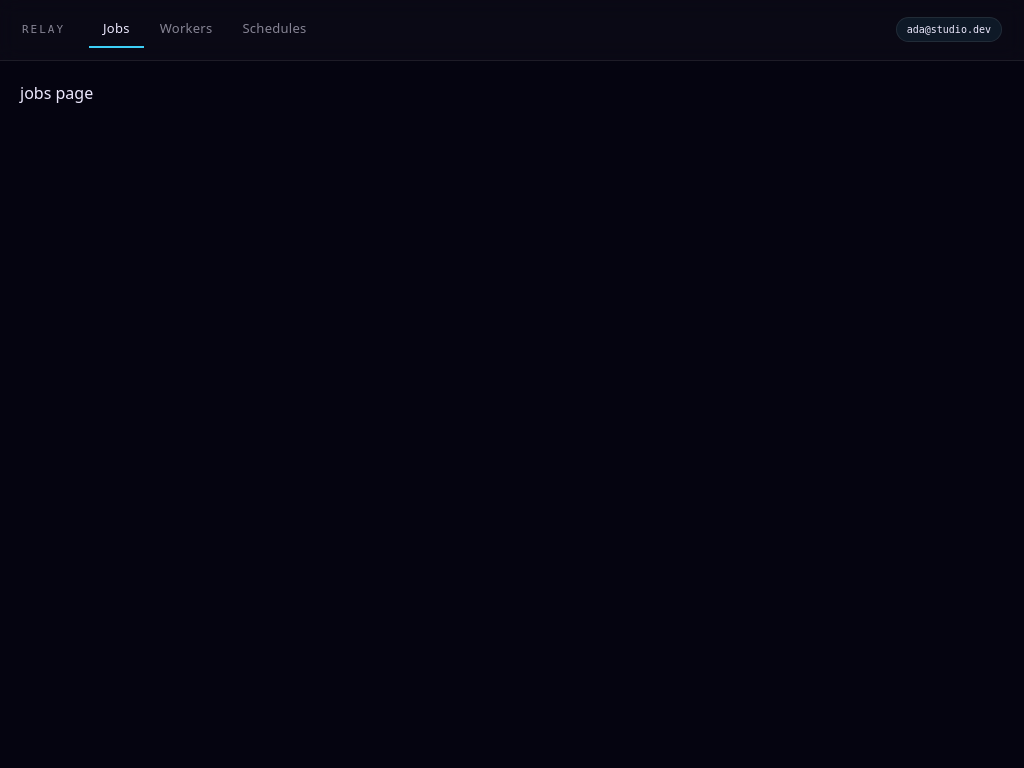
Test: signing out from the account menu leaves focus on the email field, not on <body>
Click the button "ada@studio.dev" at (949, 30), box [896,17,1002,42]
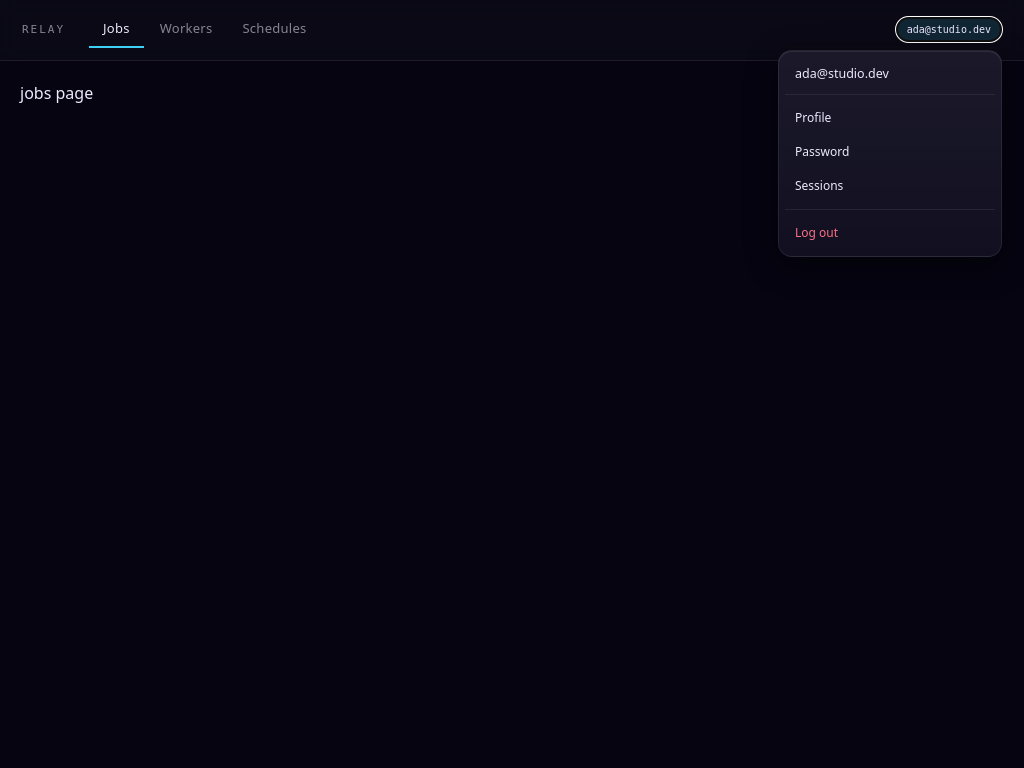
Click the button "Log out" at (890, 233), box [785,216,995,250]
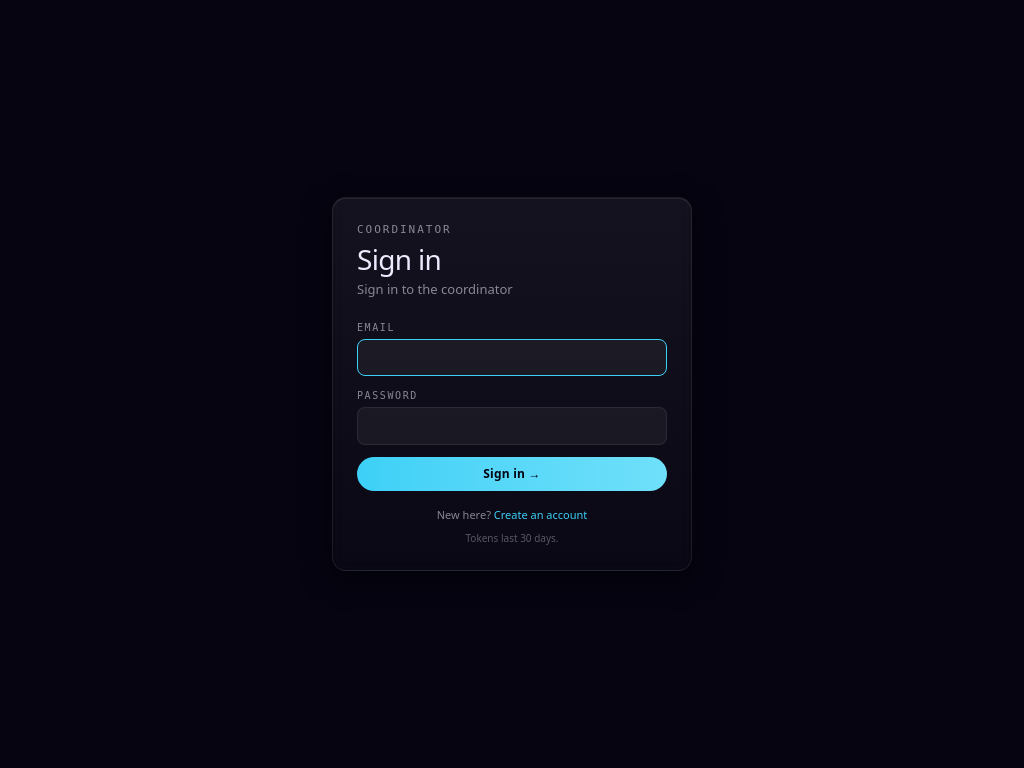
Result: the heading "Sign in" is shown at [357,240,441,278]
